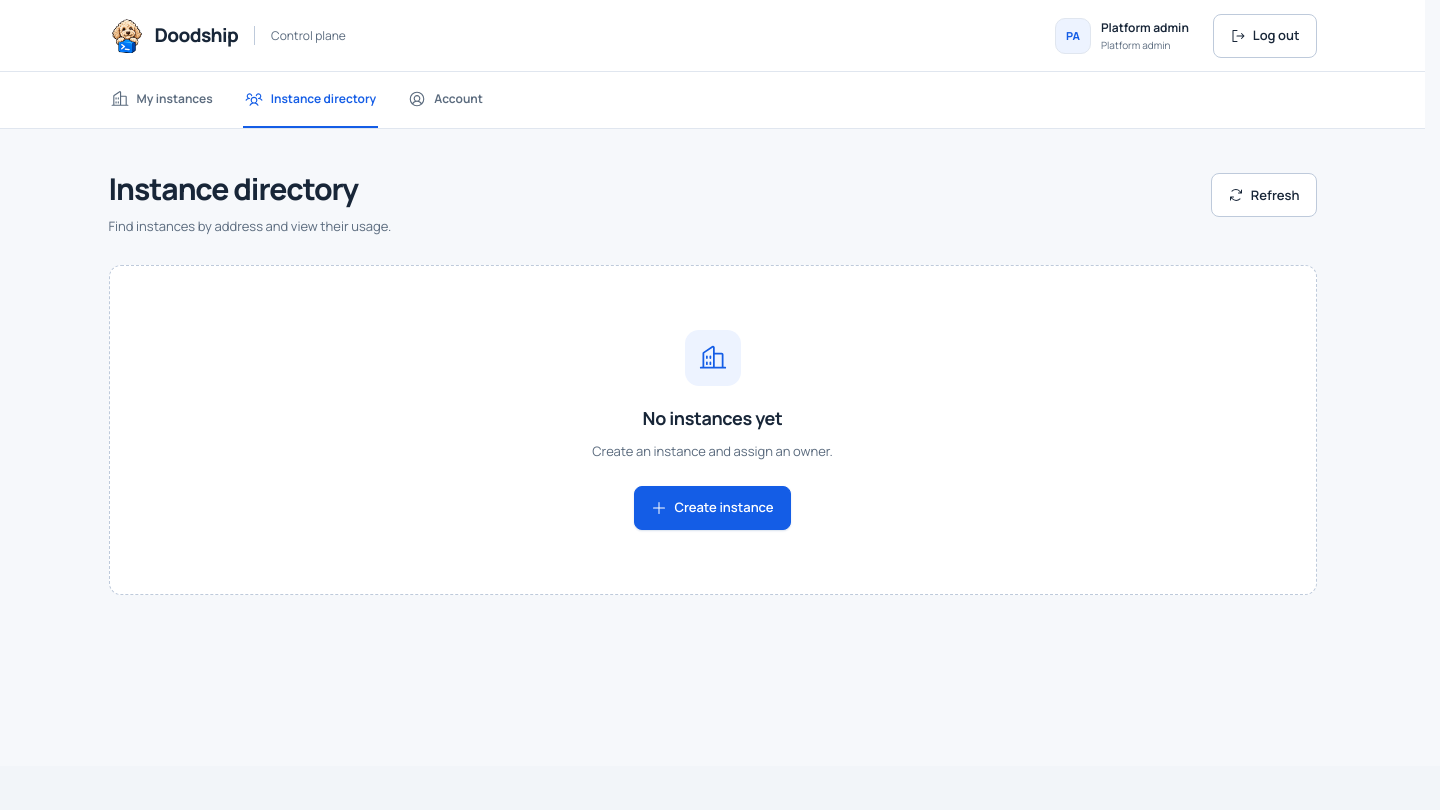
Test: focuses the instance name and returns to the directory when creation is cancelled
Expected: the heading "Instance directory" is shown, [108, 169, 391, 208]
Expected: the heading "No instances yet" is shown, [643, 406, 782, 431]
Step 1. Click the button "Create instance" → {"x": 712, "y": 508}, box [634, 486, 790, 530]
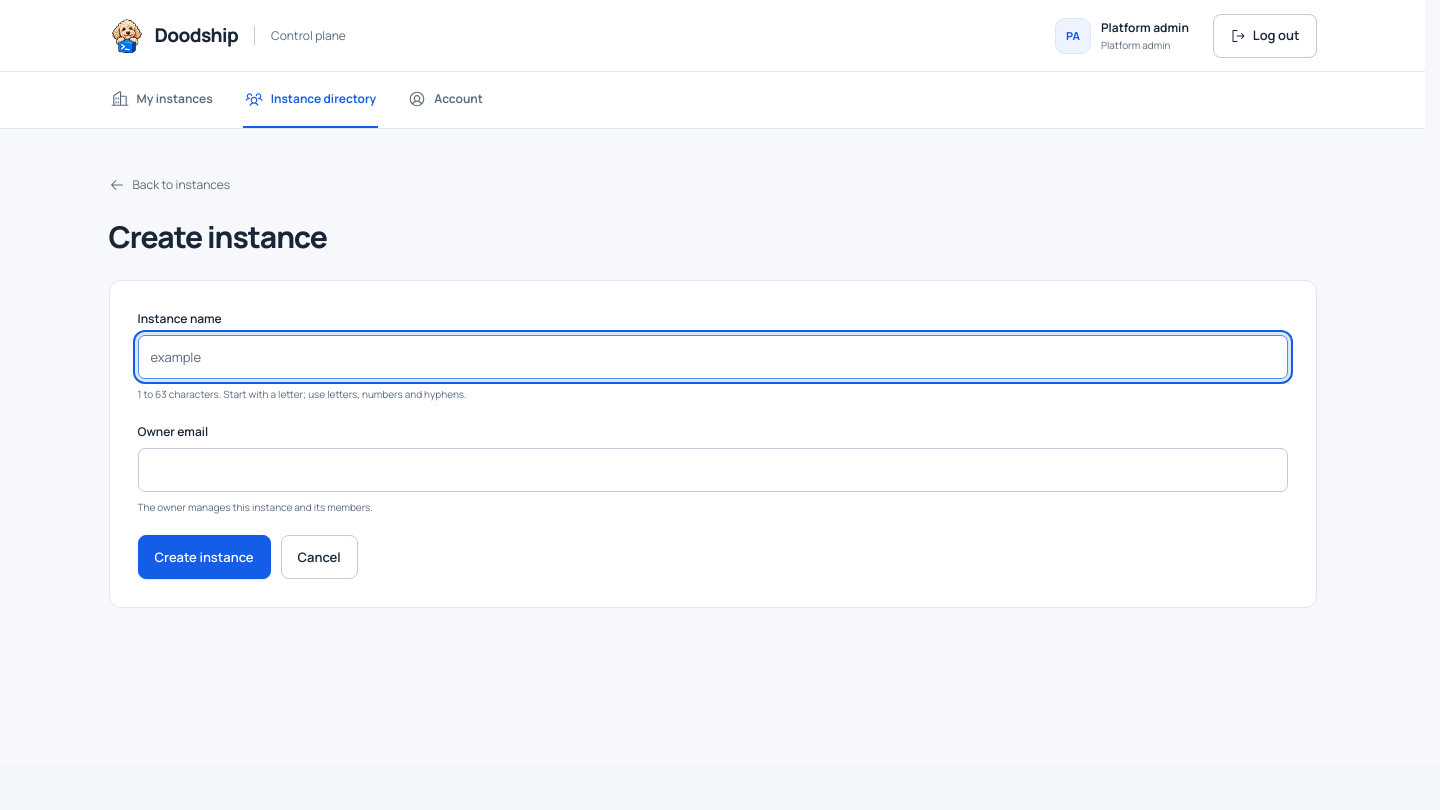
Step 2. Press Escape
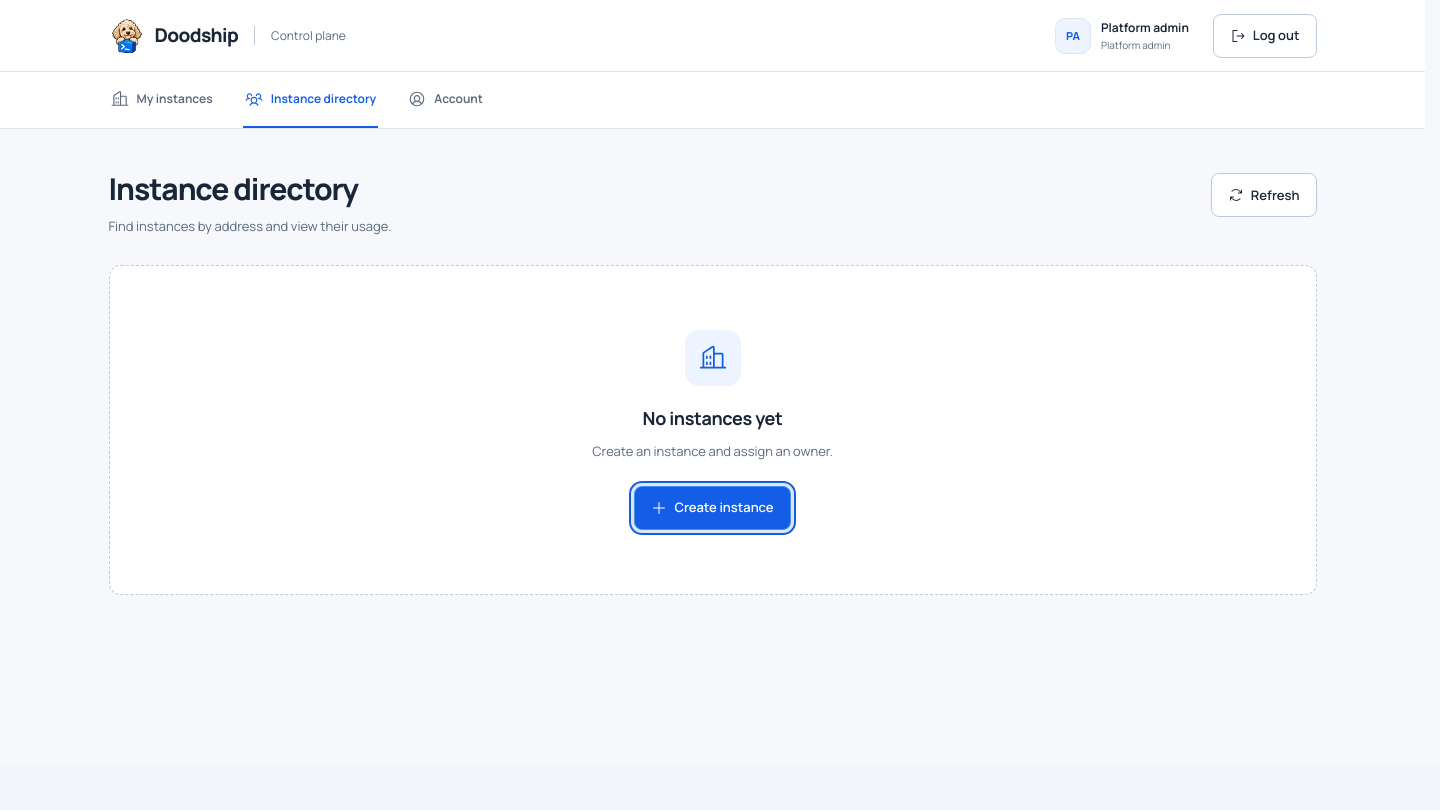
Result: the label labelled "Instance name" is gone
